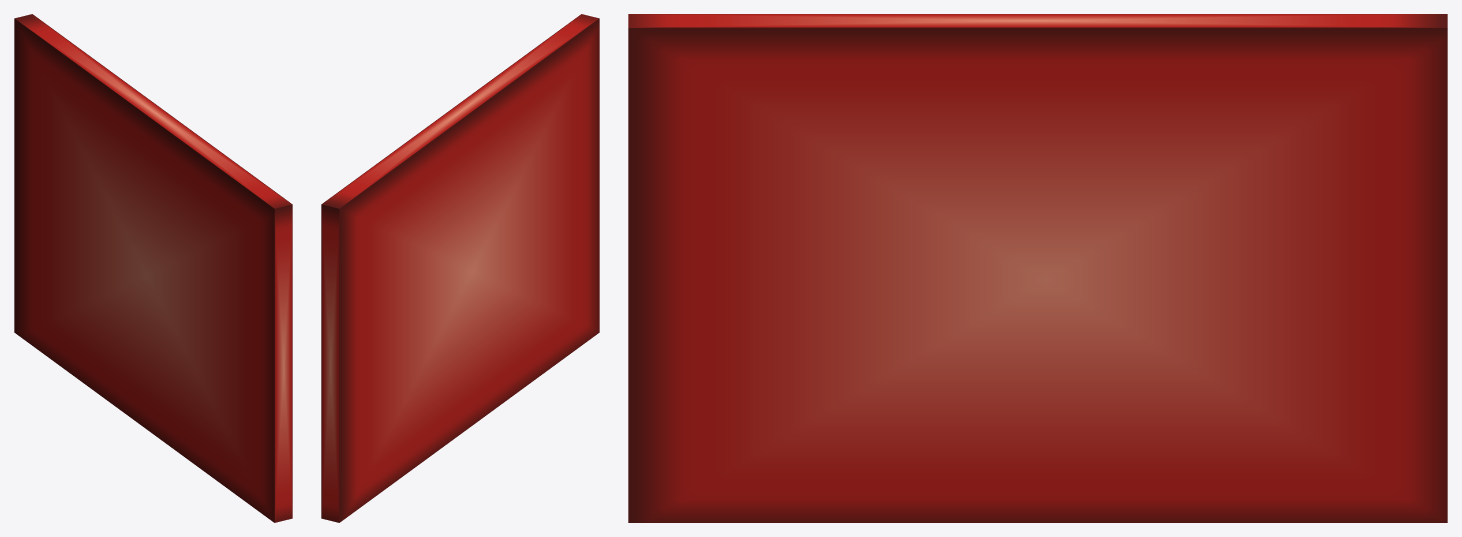
File: TailLightGlow.fbx
3 views of the same model, side by side, from view 1: azimuth 30°, elevation 25°; view 2: azimuth 150°, elevation 25°; view 3: azimuth 270°, elevation 25° (orthographic). The views are drawn at different scales.
Visible parts, largest first — view 1: TailLightGlow; view 2: TailLightGlow; view 3: TailLightGlow.
Boxes of the visible parts, <box> form: TailLightGlow: <box>14,14,292,522</box>; TailLightGlow: <box>321,14,599,522</box>; TailLightGlow: <box>628,14,1447,522</box>.
Size of the model in its own units: 0.012 by 0.2 by 0.3.
